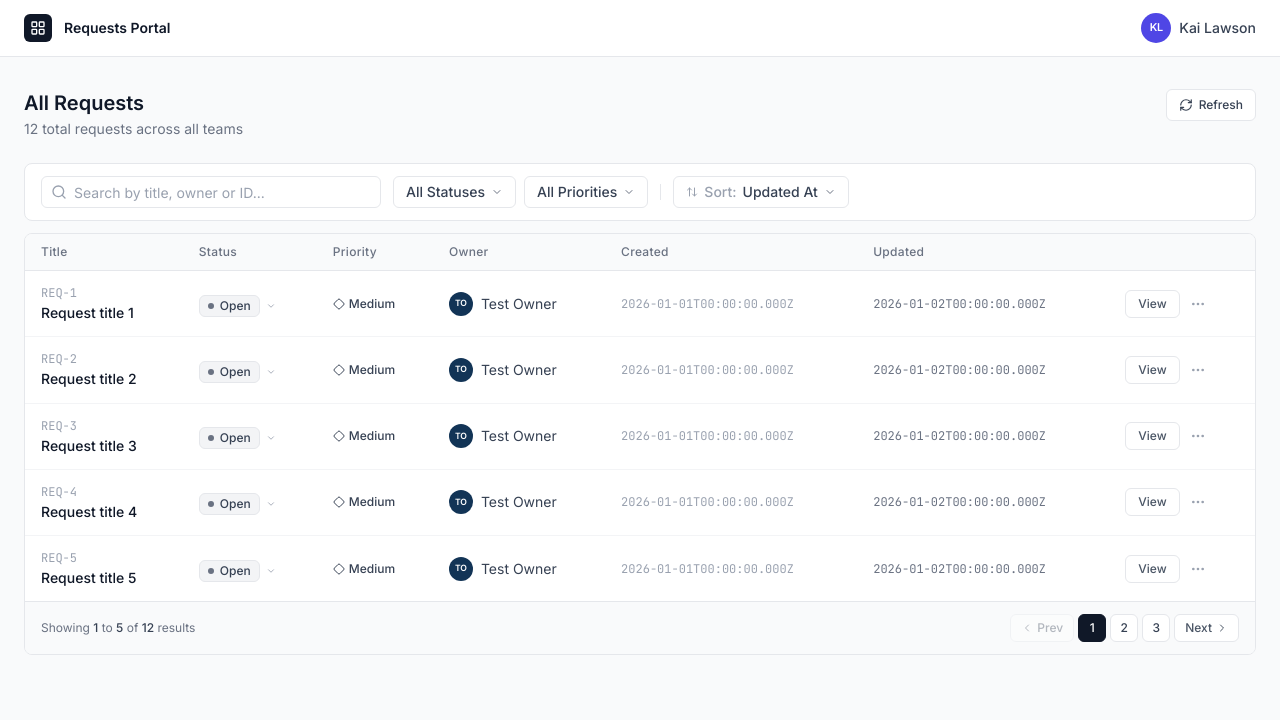
Test: RequestsListPage row actions › reports a failed status change
Expected: the text "Request title 1" is shown, x1=41 y1=304 x2=134 y2=321
Click the button named "Change status": [237, 306] box x1=199 y1=295 x2=276 y2=317
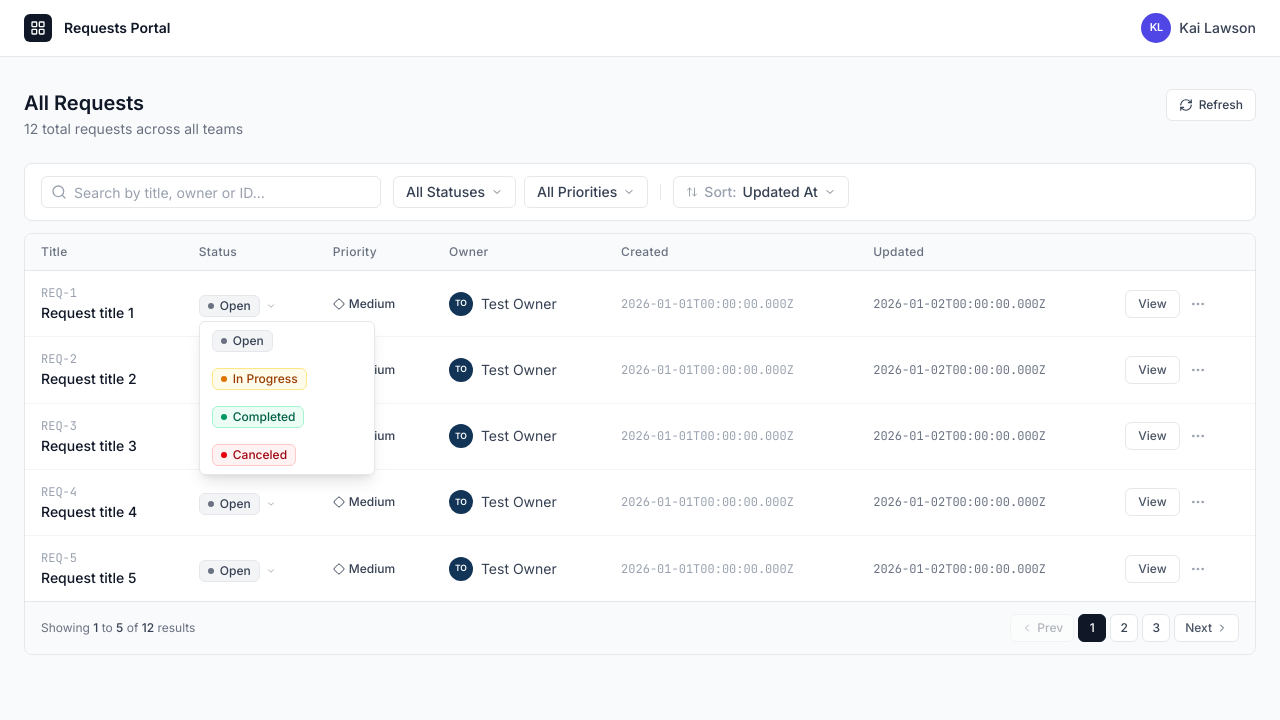
Click the option "Completed": [287, 417] box x1=200 y1=398 x2=374 y2=436
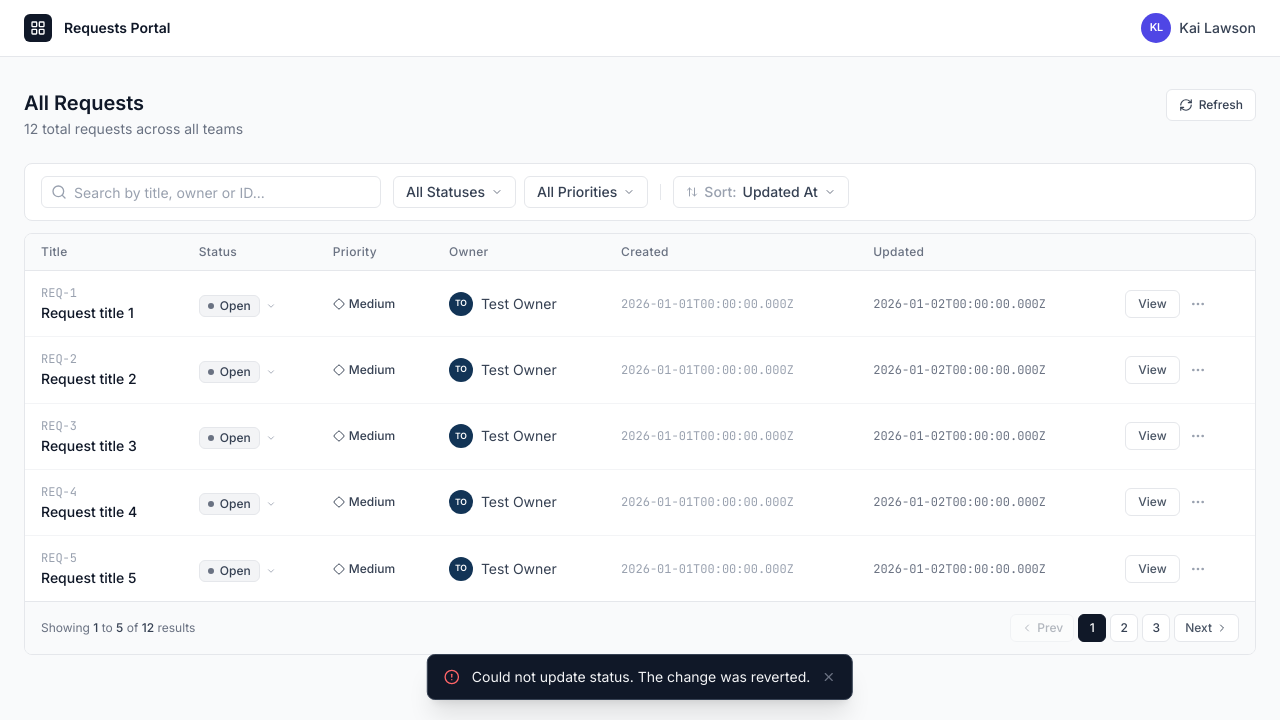
Now the text "Could not update status. The change was reverted." is shown, box x1=472 y1=667 x2=810 y2=687
